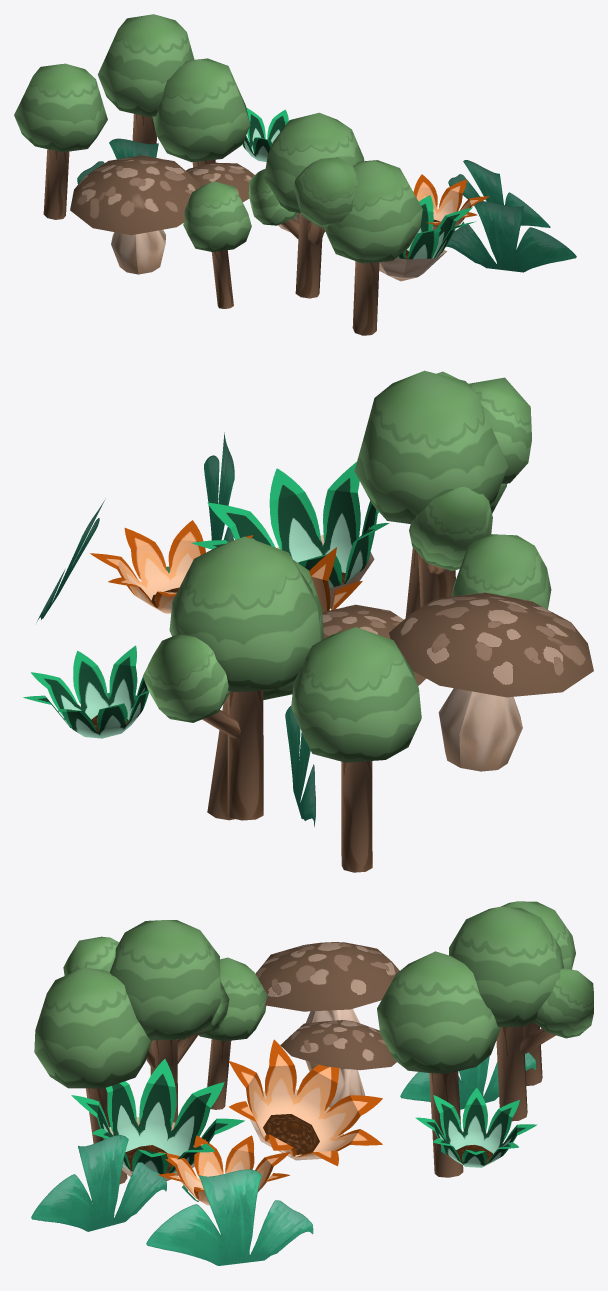
File: Nature_03.fbx
The picture shows the model from 3 angles, top to bottom: view 1: azimuth 30°, elevation 25°; view 2: azimuth 150°, elevation 25°; view 3: azimuth 270°, elevation 25°; orthographic projection. The views are drawn at different scales.
Parts seen in each view (by area): view 1: Nature_03; view 2: Nature_03; view 3: Nature_03.
Part boxes in pixels (x1,y1,x2,y2): Nature_03: (14,14,576,335); Nature_03: (23,370,593,872); Nature_03: (31,901,593,1265).
Bounding box in the file's own units: 78.39 × 38.48 × 81.67.
